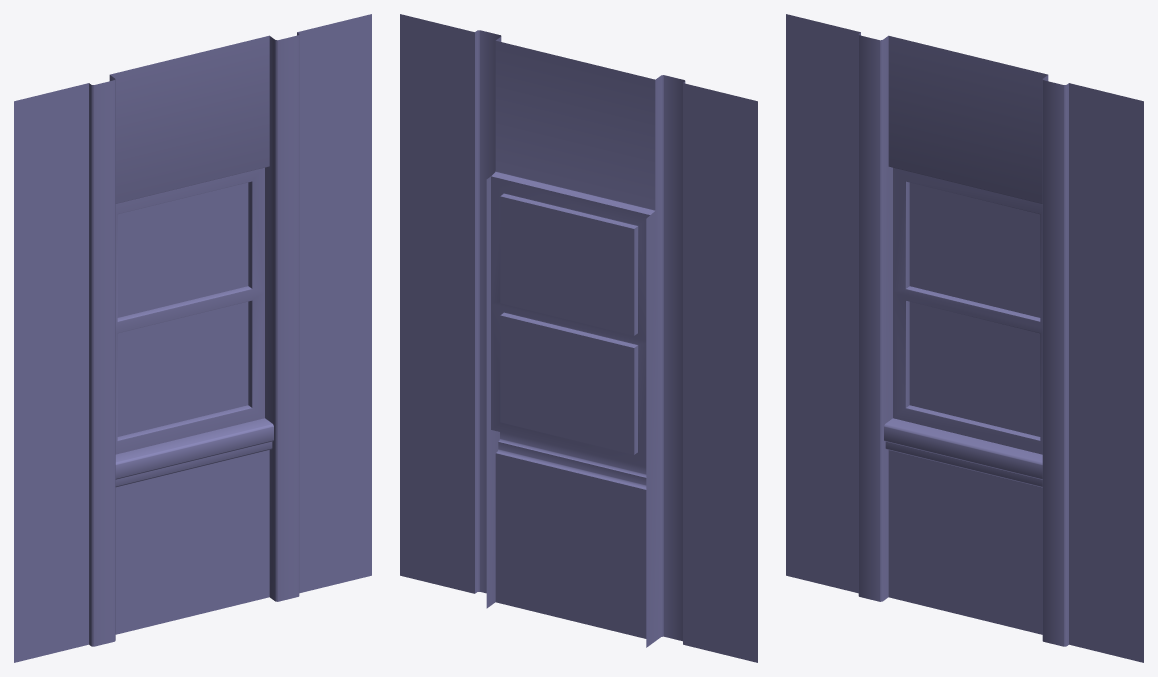
Rendered from M_A_window_08.fbx.
3 views of the same model, side by side, from view 1: azimuth 30°, elevation 25°; view 2: azimuth 150°, elevation 25°; view 3: azimuth 330°, elevation 25° (orthographic).
Parts seen in each view (by area): view 1: M_A_window_08; view 2: M_A_window_08; view 3: M_A_window_08.
Boxes of the visible parts, x1,y1,x2,y2 form: M_A_window_08: (14,14,371,662); M_A_window_08: (400,14,757,662); M_A_window_08: (786,14,1143,662).
Bounding box in the file's own units: 200 × 300 × 15.34.
